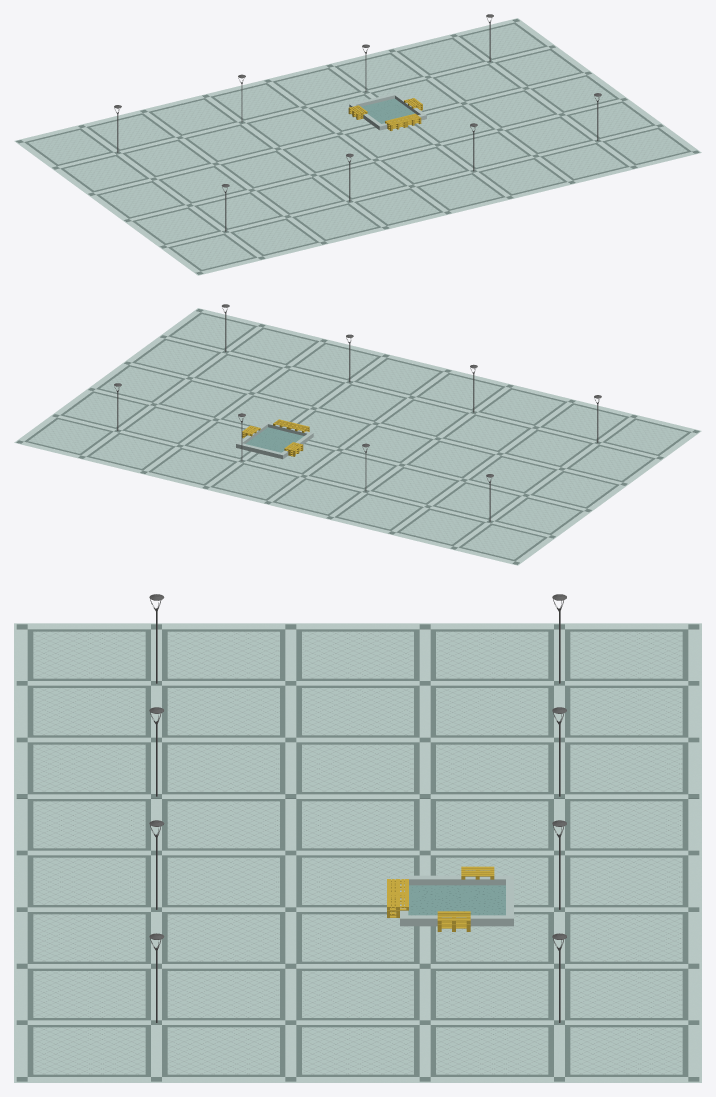
The picture shows the model from 3 angles, top to bottom: view 1: azimuth 30°, elevation 25°; view 2: azimuth 150°, elevation 25°; view 3: azimuth 270°, elevation 25°; orthographic projection. The views are drawn at different scales.
Visible parts, largest first — view 1: Mesh_278.002, square 1 component.009, square 1 component.016, square 1 component.019, square 1 component.037, square 1 component.003, square 1 component.020, square 1 component.022, square 1 component.039, square 1 component.001, square 1 component.007, square 1 component.026 (+31 smaller); view 2: Mesh_278.002, square 1 component.034, square 1 component.016, square 1 component.017, square 1 component.037, square 1 component.003, square 1 component.004, square 1 component.019, square 1 component.020, square 1 component.023, square 1 component.029, square 1 component.036 (+31 smaller); view 3: Mesh_278.002, square 1 component.006, square 1 component.027, square 1 component.005, square 1 component.009, square 1 component.017, square 1 component.019, square 1 component.025, square 1 component.026, square 1 component.031, square 1 component.007, square 1 component.008 (+31 smaller).
Part boxes in pixels (x1,y1,x2,y2): Mesh_278.002: (14, 18, 701, 275); square 1 component.009: (388, 37, 485, 75); square 1 component.016: (408, 173, 505, 210); square 1 component.019: (264, 68, 361, 105); square 1 component.037: (160, 233, 257, 271); square 1 component.003: (486, 48, 583, 86); square 1 component.020: (238, 109, 335, 146); square 1 component.022: (310, 162, 407, 199); square 1 component.039: (16, 128, 113, 166); square 1 component.001: (558, 101, 655, 139); square 1 component.007: (532, 142, 629, 180); square 1 component.026: (140, 98, 237, 135); Mesh_278.002: (14, 308, 701, 565); square 1 component.034: (432, 482, 521, 523); square 1 component.016: (354, 357, 443, 398); square 1 component.017: (318, 384, 407, 425); square 1 component.037: (602, 418, 691, 459); square 1 component.003: (60, 391, 149, 432); square 1 component.004: (24, 417, 113, 458); square 1 component.019: (210, 463, 299, 504); square 1 component.020: (308, 451, 397, 492); square 1 component.023: (272, 478, 361, 519); square 1 component.029: (478, 388, 567, 429); square 1 component.036: (566, 444, 655, 485); Mesh_278.002: (14, 623, 701, 1082); square 1 component.006: (296, 963, 430, 1020); square 1 component.027: (296, 737, 430, 794); square 1 component.005: (162, 963, 296, 1020); square 1 component.009: (565, 963, 699, 1020); square 1 component.017: (162, 850, 296, 907); square 1 component.019: (565, 850, 699, 907); square 1 component.025: (162, 737, 296, 794); square 1 component.026: (565, 737, 699, 794); square 1 component.031: (296, 681, 430, 737); square 1 component.007: (27, 963, 161, 1020); square 1 component.008: (430, 963, 564, 1020).
Bounding box in the file's own units: 1.8 × 0.1599 × 1.14.
Materials: 9 (5 with a texture image).
